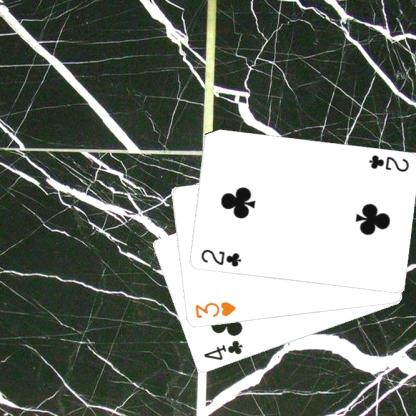2C: (198, 246, 242, 268), (366, 152, 410, 174)
3H: (192, 299, 237, 320)
4C: (201, 338, 244, 362)
